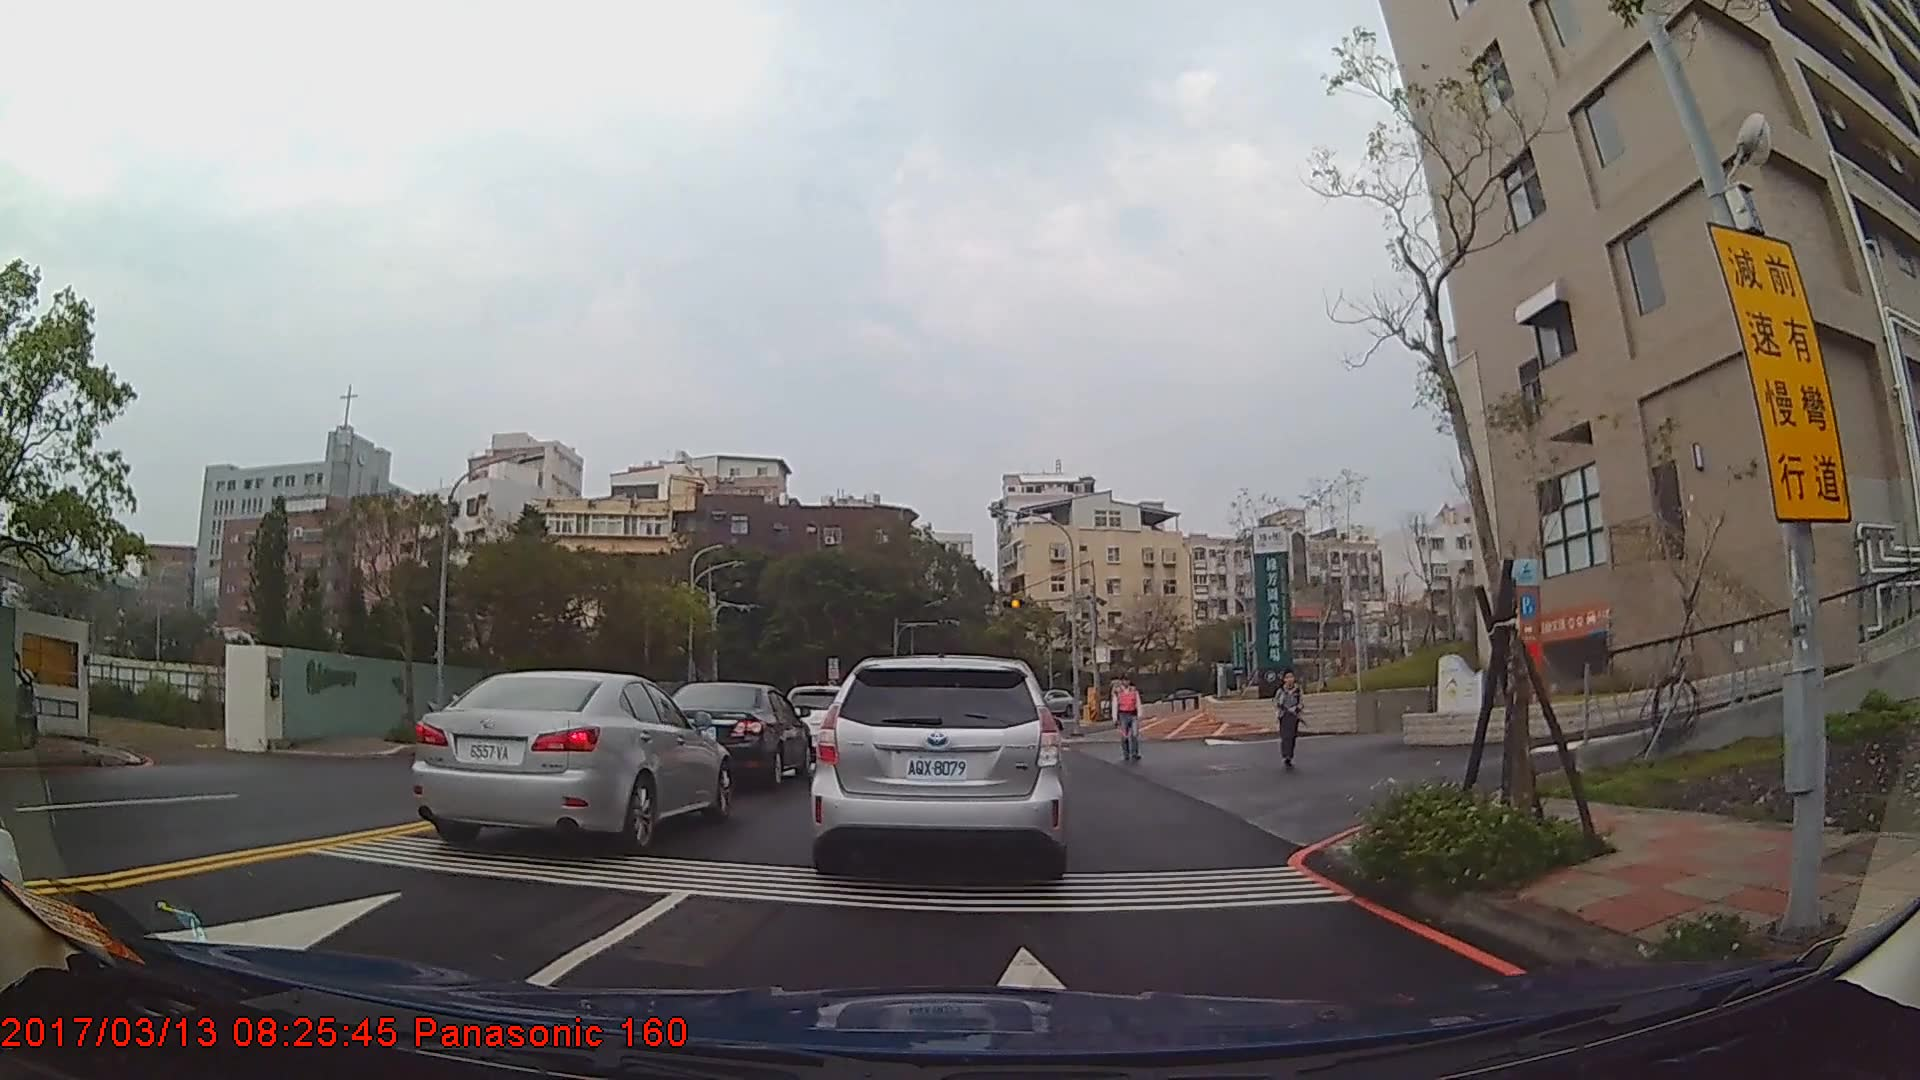pedestrian: (1276, 670, 1306, 770), (1115, 676, 1142, 766)
vehicle: (809, 654, 1068, 878), (409, 671, 730, 850), (655, 680, 812, 788)
